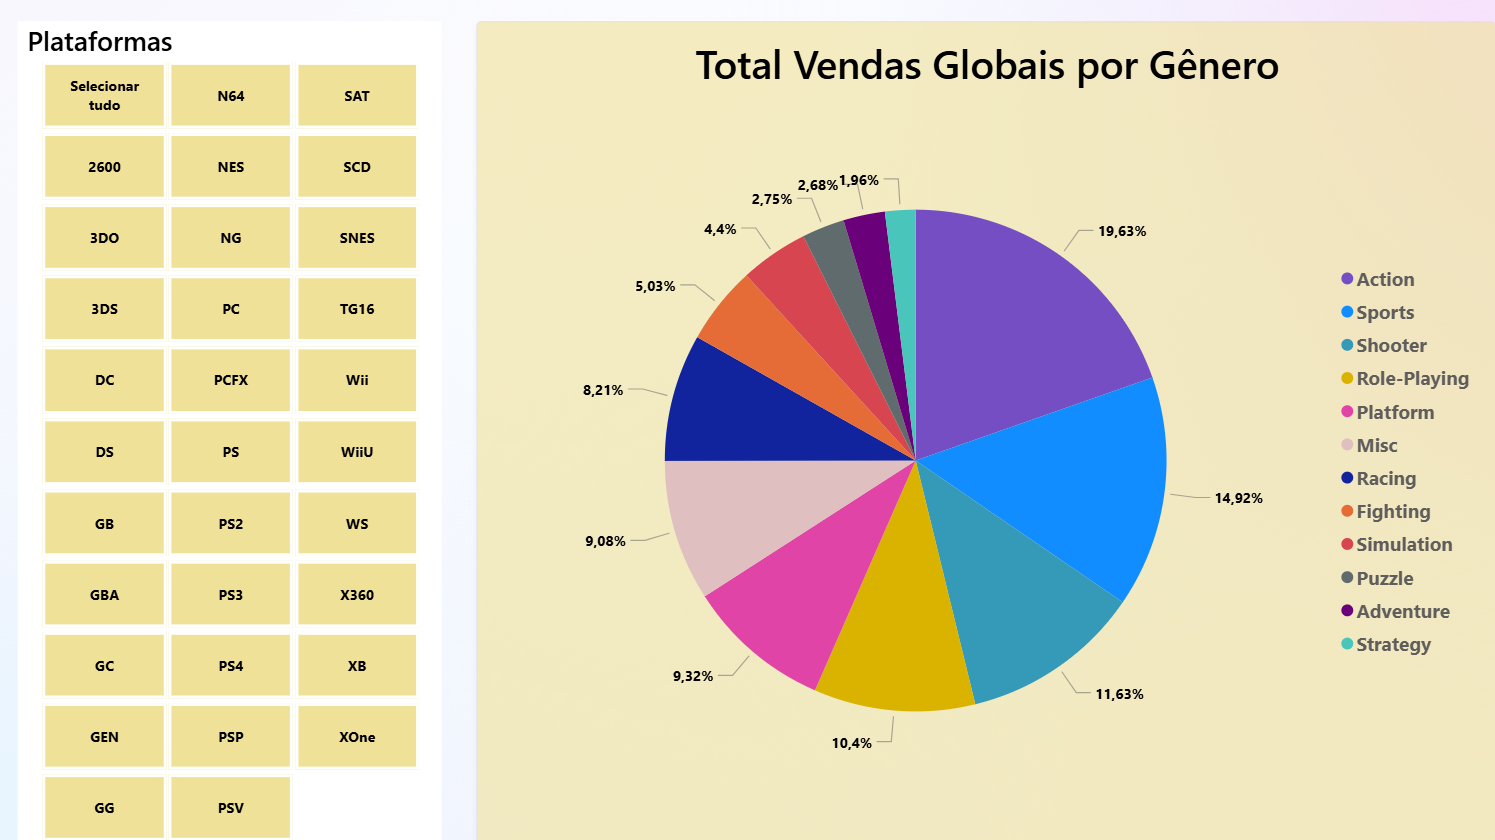

What the dashboard file says about the page in this screenshot:
{"tool":"powerbi","page":{"name":"Vendas_Globais_Gênero","canvas":[1280,720],"ordinal":0},"visuals":[{"type":"pieChart","title":"Total Vendas Globais por Gênero","fields":{"Category":["video_games_sales.genre"],"Y":["Sum(video_games_sales.global_sales)"]},"box":[419.9,26.1,860.4,693],"z":0},{"type":"slicer","fields":{"Values":["video_games_sales.platform"]},"box":[33.1,26.2,357.7,693.3],"z":1000}]}

Visuals, with their boxes in screenshot pixels (x1, y1, x2, y2), scaled from the page's 1280x720 canvas onto the 1495x840 screenshot:
"Total Vendas Globais por Gênero" pieChart: l=490, t=30, r=1494, b=839
slicer - video_games_sales.platform: l=39, t=31, r=456, b=839
